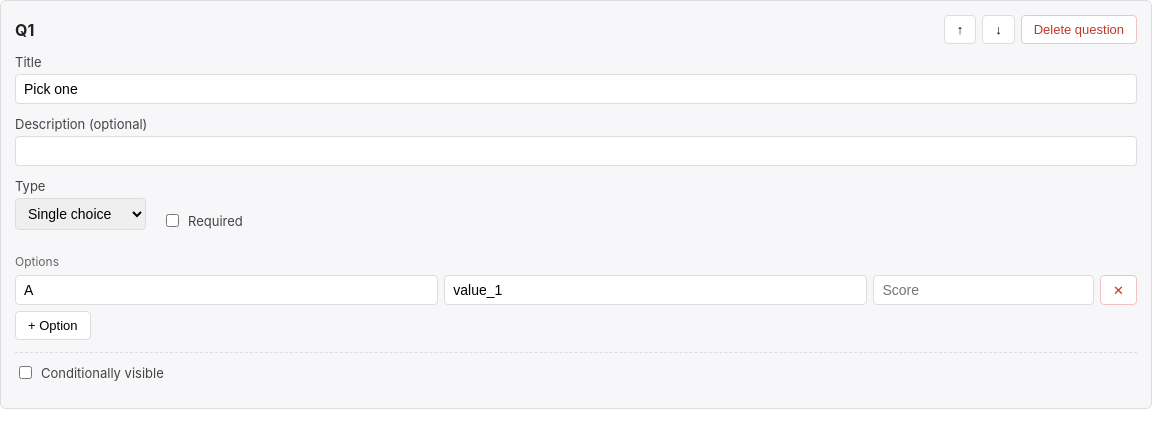
Test: QuestionEditor — type switching › switching to "text" clears the options list
The width and height of the screenshot is (1152, 426).
Check: the text "Options" is shown, box 15,254 -> 59,269
Select "Free text" in the dropdown showing "Single choice" at (80, 214), box 15,198 -> 146,230
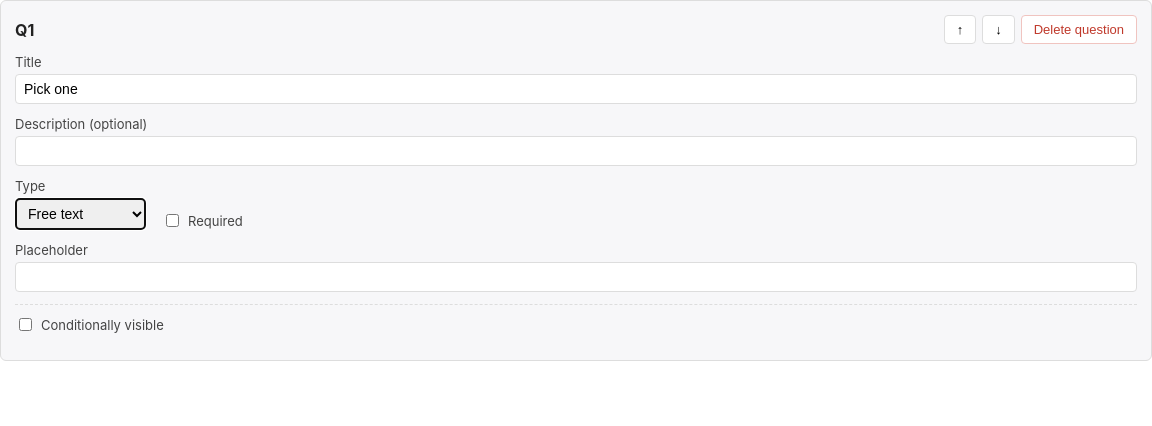
Check: the text "Options" is gone
Check: the text "Placeholder" is shown, box 15,242 -> 1137,292
